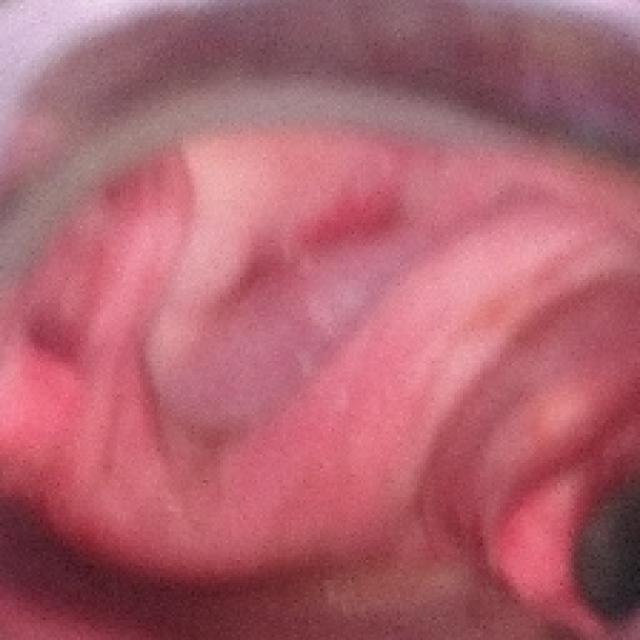type-2: (0, 63, 640, 619)
